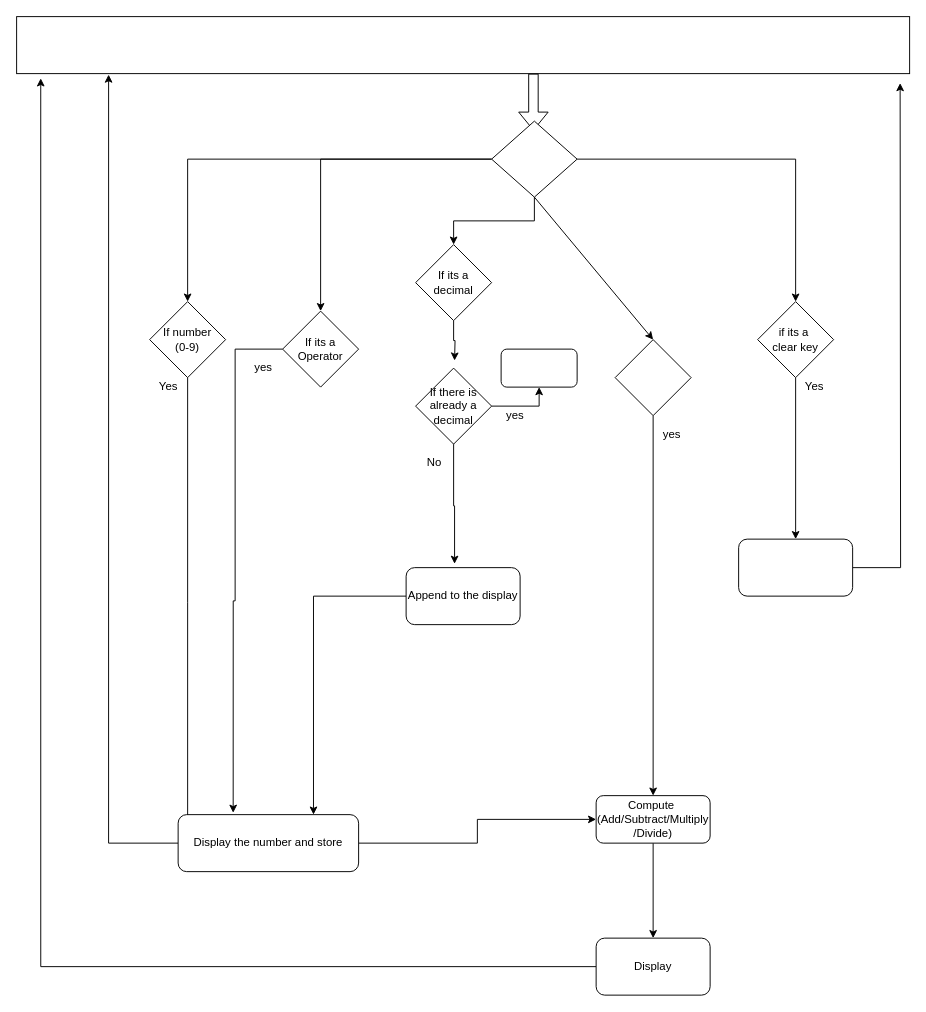
This 926x1012 diagram has some shape labels left out. Here are the shapes that lost their labels. From the top down, the box of each, then its label:
(16, 16, 910, 74): User Click/Input
(491, 120, 577, 197): Determine the key
(500, 348, 577, 387): ignore the decimal
(614, 339, 691, 416): if its the equals
(738, 538, 853, 596): Clear Screen
